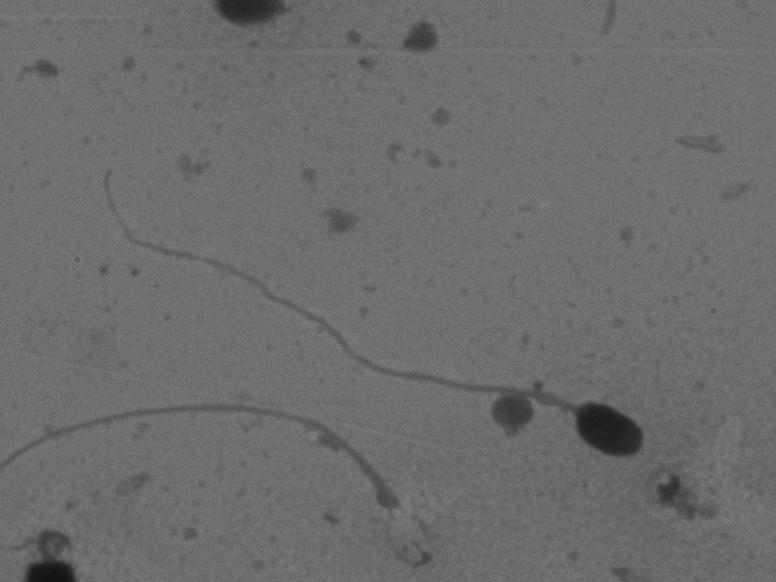Abnormal: (74, 150, 664, 481), (5, 391, 456, 573)
